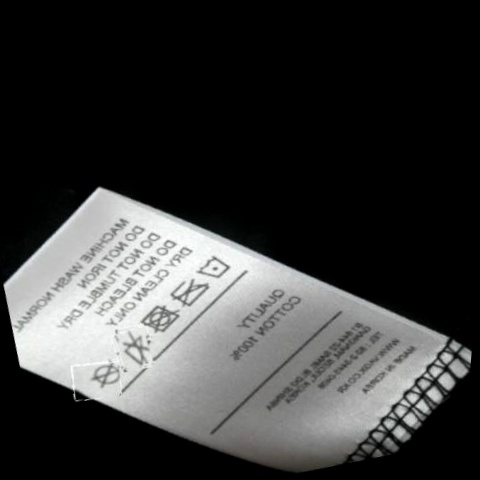30C: (198, 253, 229, 280)
DN_bleach: (114, 332, 150, 367)
DN_dry_clean: (89, 361, 123, 391)
DN_iron: (167, 277, 206, 309)
DN_tumble_dry: (138, 301, 179, 334)
